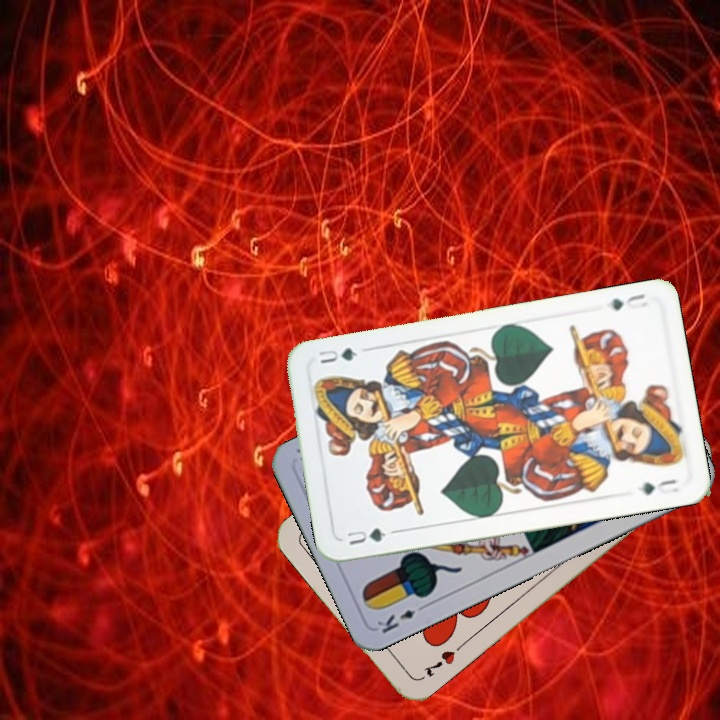EK: (372, 599, 430, 637)
GU: (343, 523, 398, 548), (606, 289, 651, 313)
H7: (419, 646, 458, 680)
